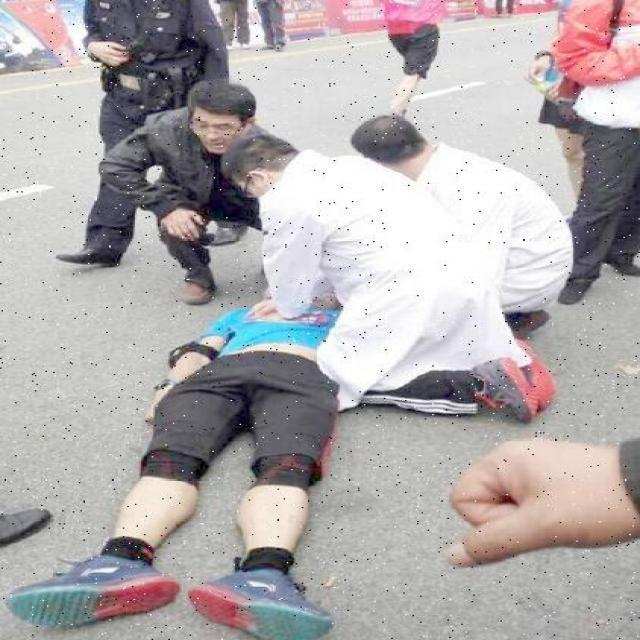fall: (44, 293, 344, 618)
